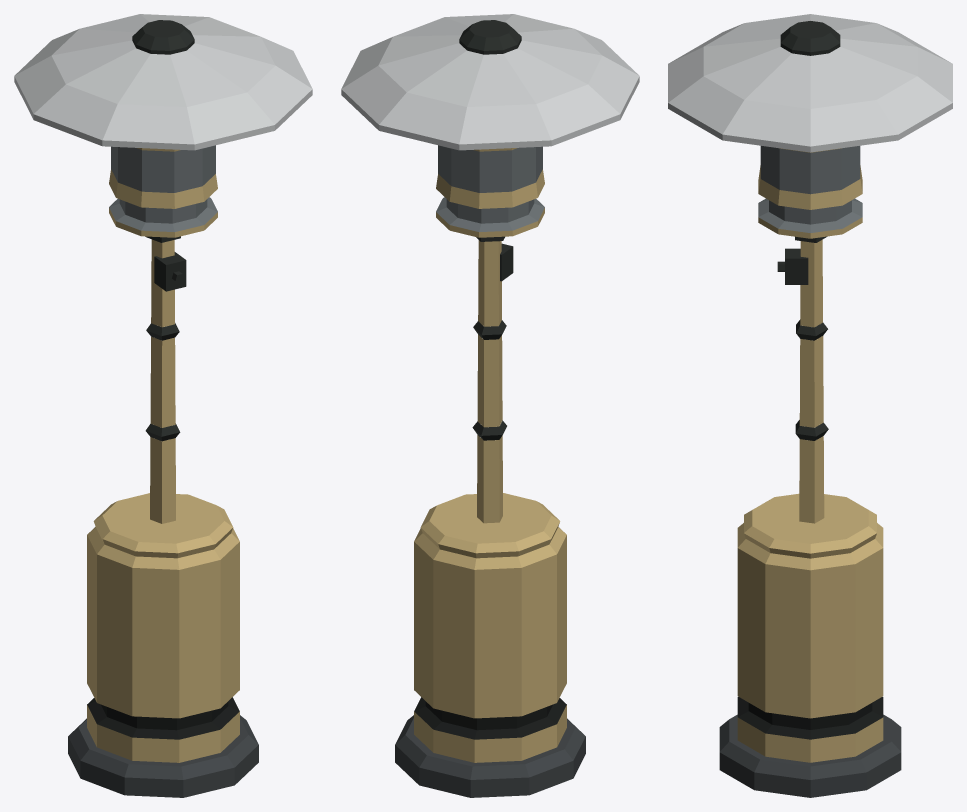
The model's file is patio-heater-1559f3.glb.
3 renders of one model, left to right at view 1: azimuth 30°, elevation 25°; view 2: azimuth 150°, elevation 25°; view 3: azimuth 270°, elevation 25°, orthographic.
Parts seen in each view (by area): view 1: patio-heater, cowl; view 2: patio-heater, cowl; view 3: patio-heater, cowl.
Part boxes in pixels (x1=…): patio-heater: x1=68, y1=145, x2=258, y2=797; cowl: x1=14, y1=14, x2=312, y2=150; patio-heater: x1=395, y1=145, x2=585, y2=797; cowl: x1=341, y1=14, x2=639, y2=150; patio-heater: x1=719, y1=146, x2=901, y2=797; cowl: x1=668, y1=14, x2=952, y2=152.
Size of the model in its own units: 0.82 by 2.2 by 0.7799.
